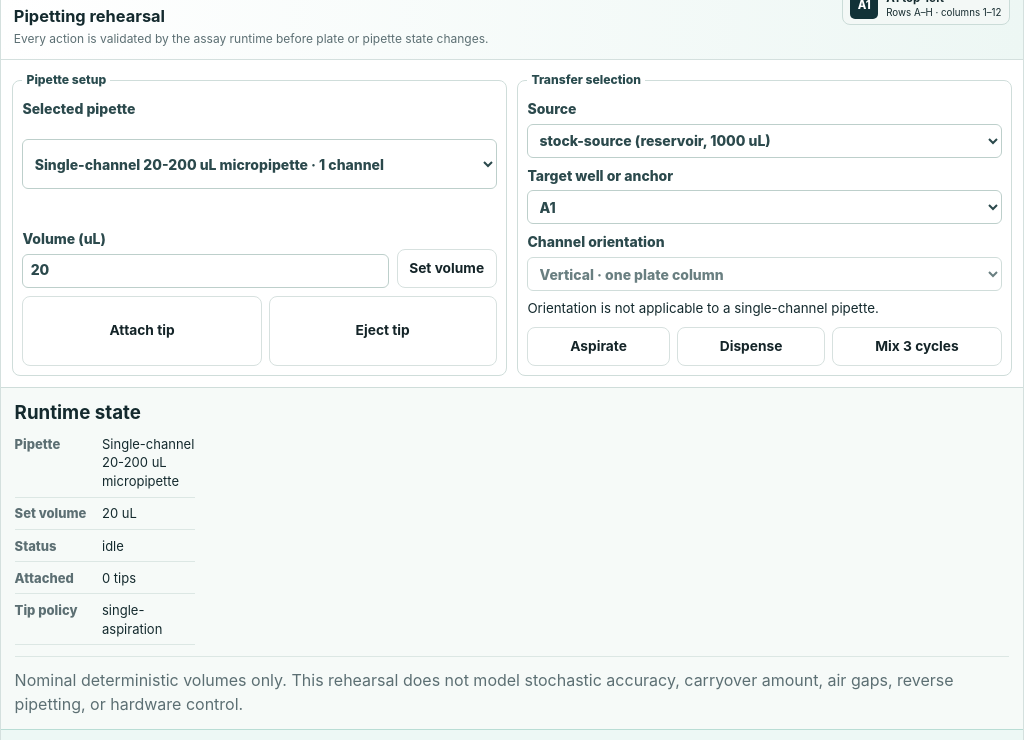
it: AssayPipettingWorkbench › announces an invalid volume from the reducer without partially changing pipette state
Replace the text in the field named "Volume in microliters" with "500" at (206, 270), box [22,254,389,288]
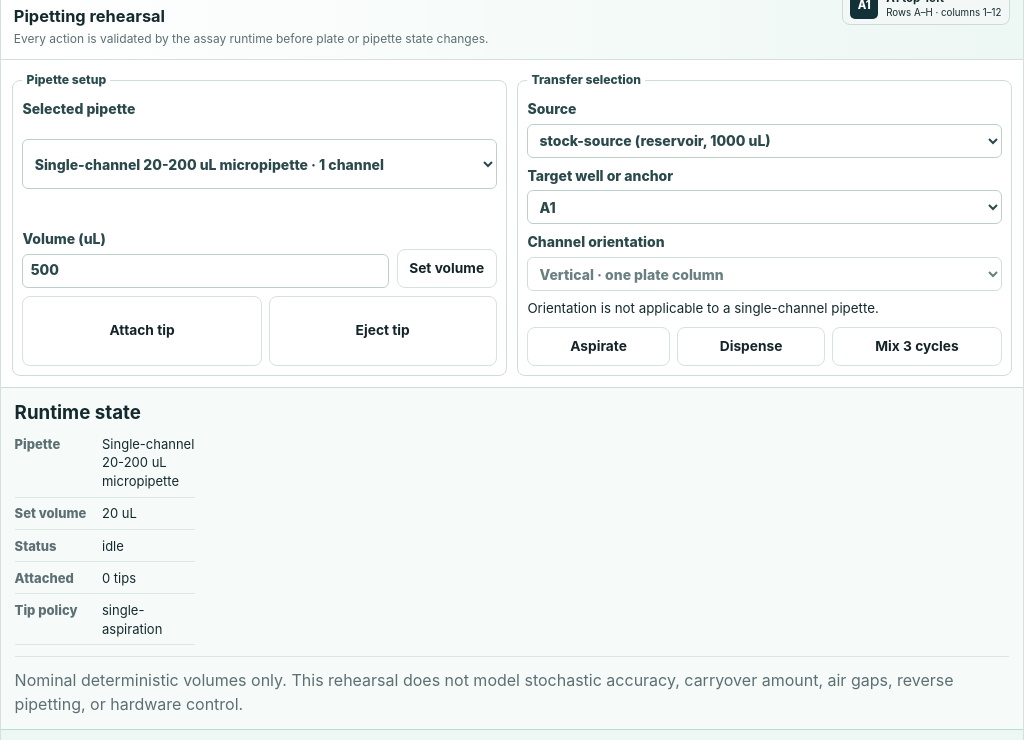
Click the button "Set volume" at (447, 268), box [397,249,497,288]
(page scrolled)
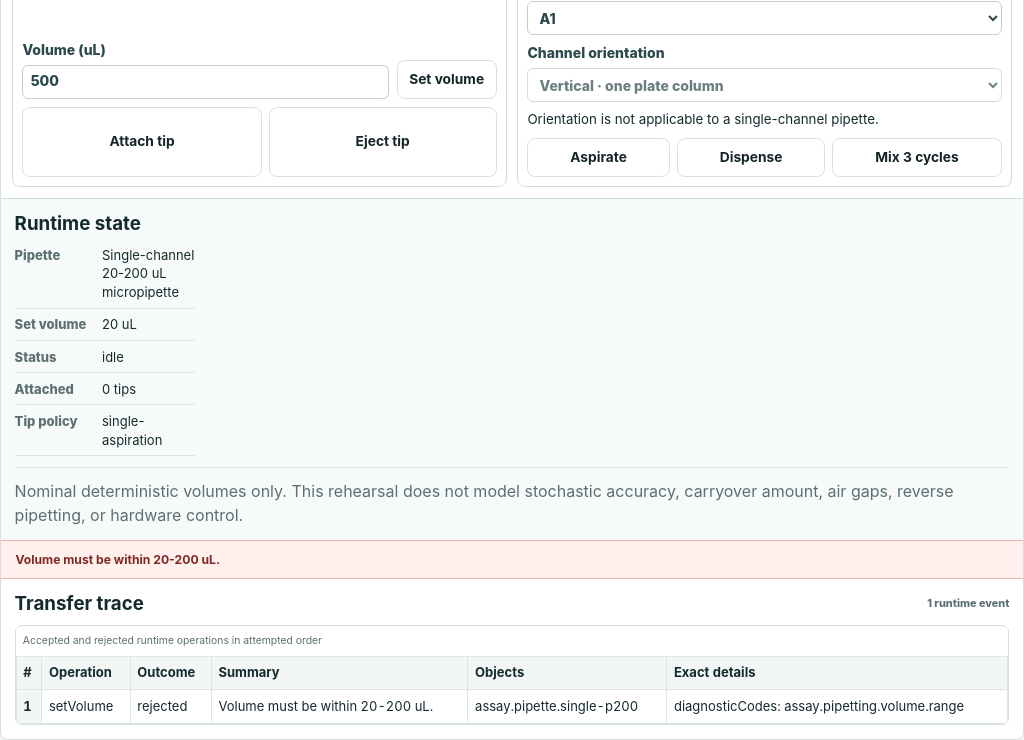
expect the element named "Pipette runtime state" shows "20 uL": met, box [1,198,1023,540]
expect the message reads "Volume must be within 20-200 uL.": met, box [15,552,220,566]
expect the table "Accepted and rejected runtime operations in attempted order" is shown: met, box [137,698,187,714]
